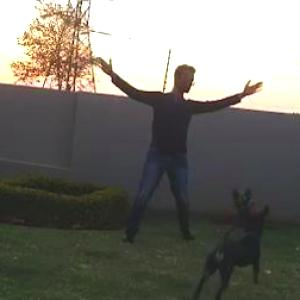takeoff: (84, 55, 252, 244)
